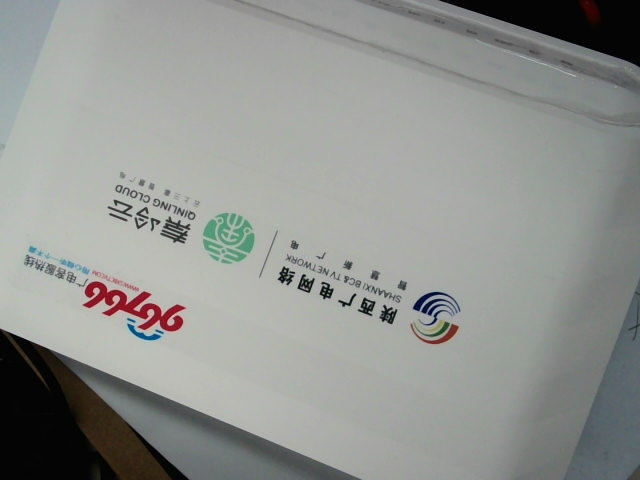AE_QinLing: (99, 167, 257, 270)
